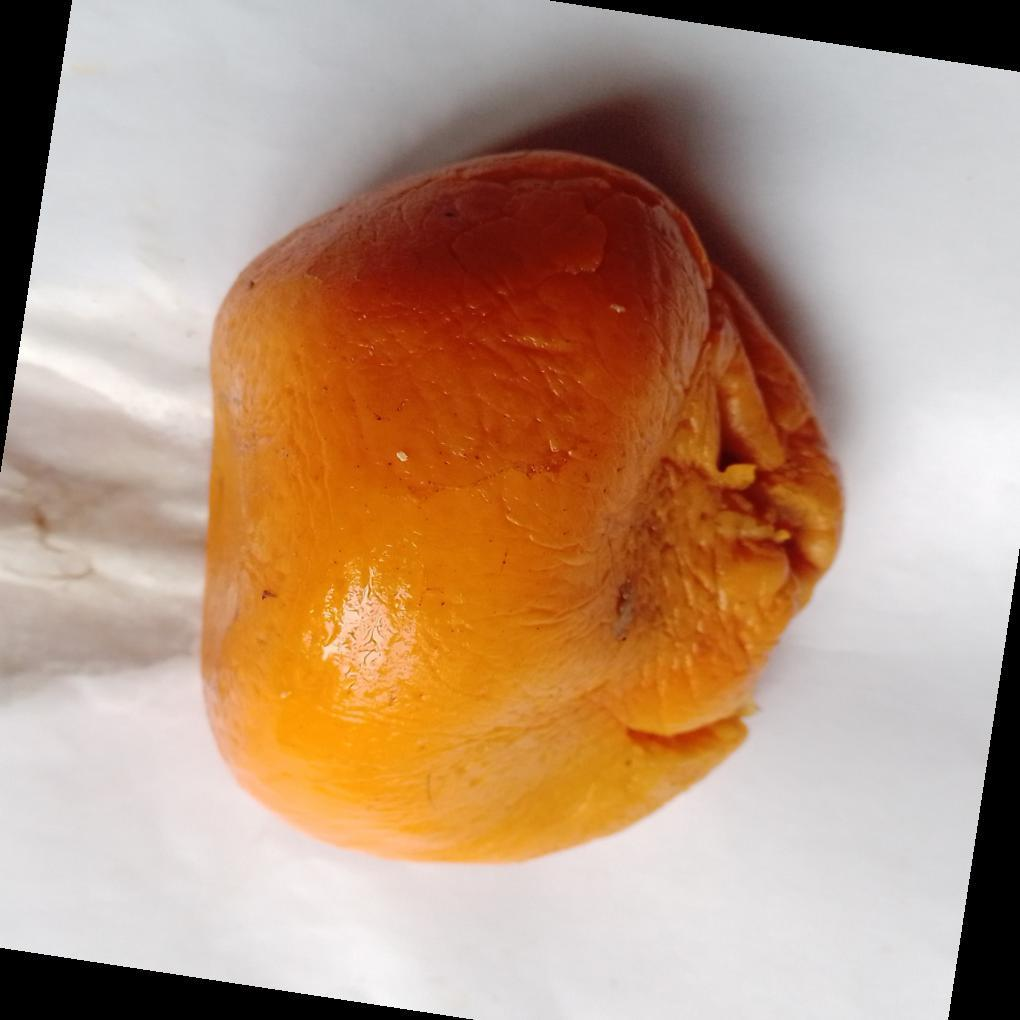FreshOrange: (197, 149, 847, 869)
